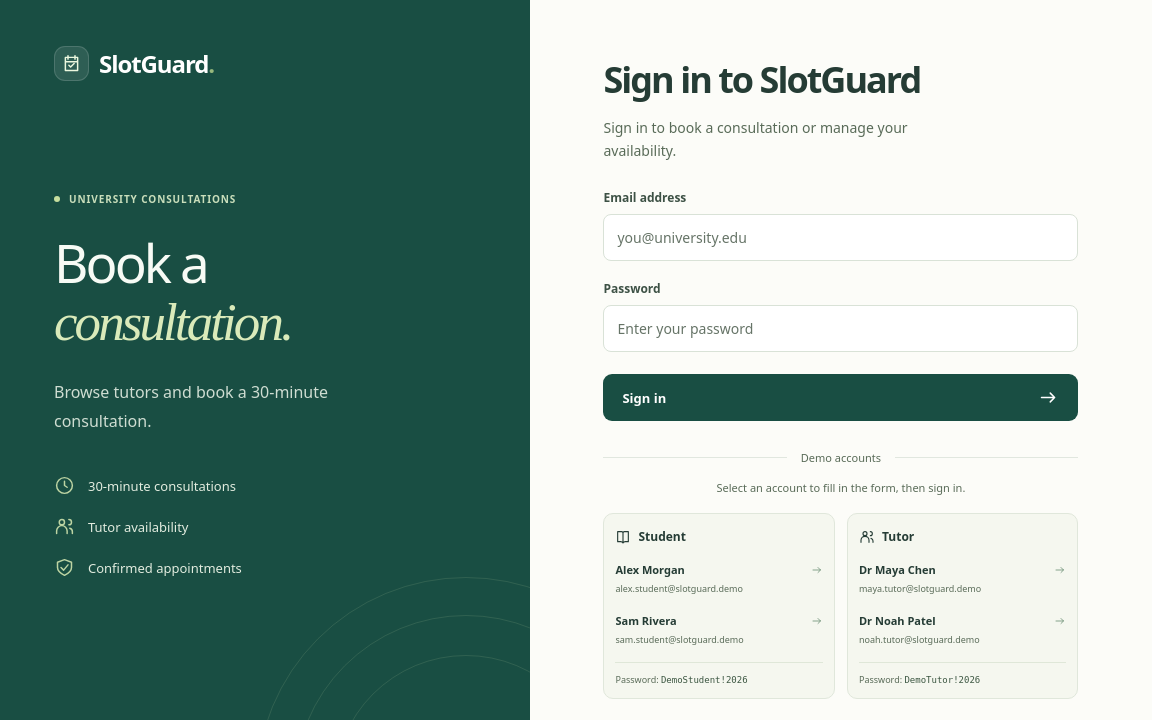
Scenario: login and session lifecycle › signs into the Tutor workspace with role-specific navigation
Step 1. Click the button with aria-label "Use Maya (Tutor)" → (963, 579), box [859,553,1066,604]
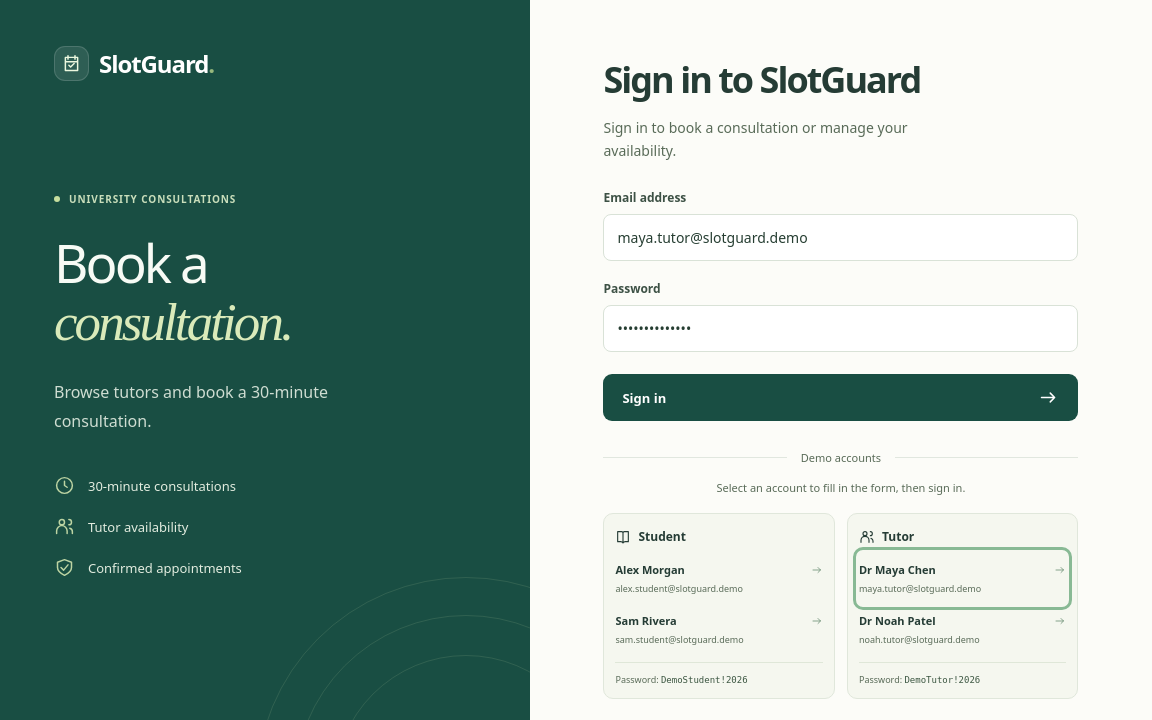
Step 2. Click the button "Sign in" → (644, 398), box [604,374,1078,421]
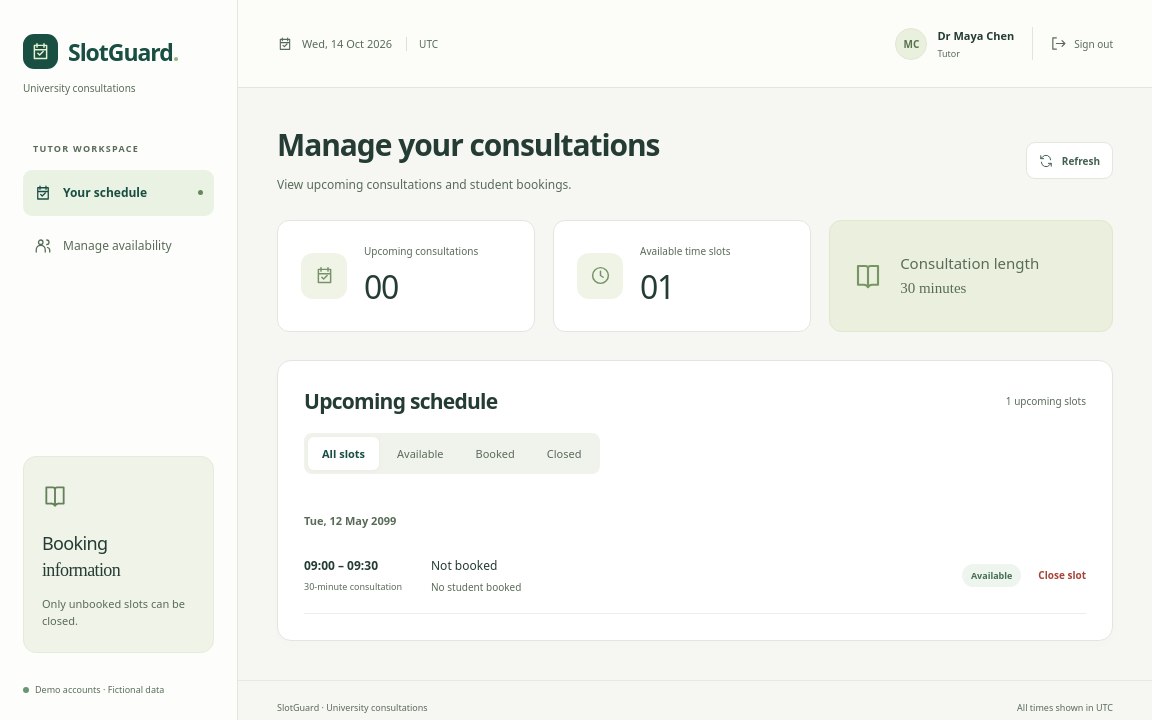
Expected: the button "Manage availability" is shown, [23,222,214,268]
Expected: the heading "Manage your consultations" is shown, [277,127,660,163]
